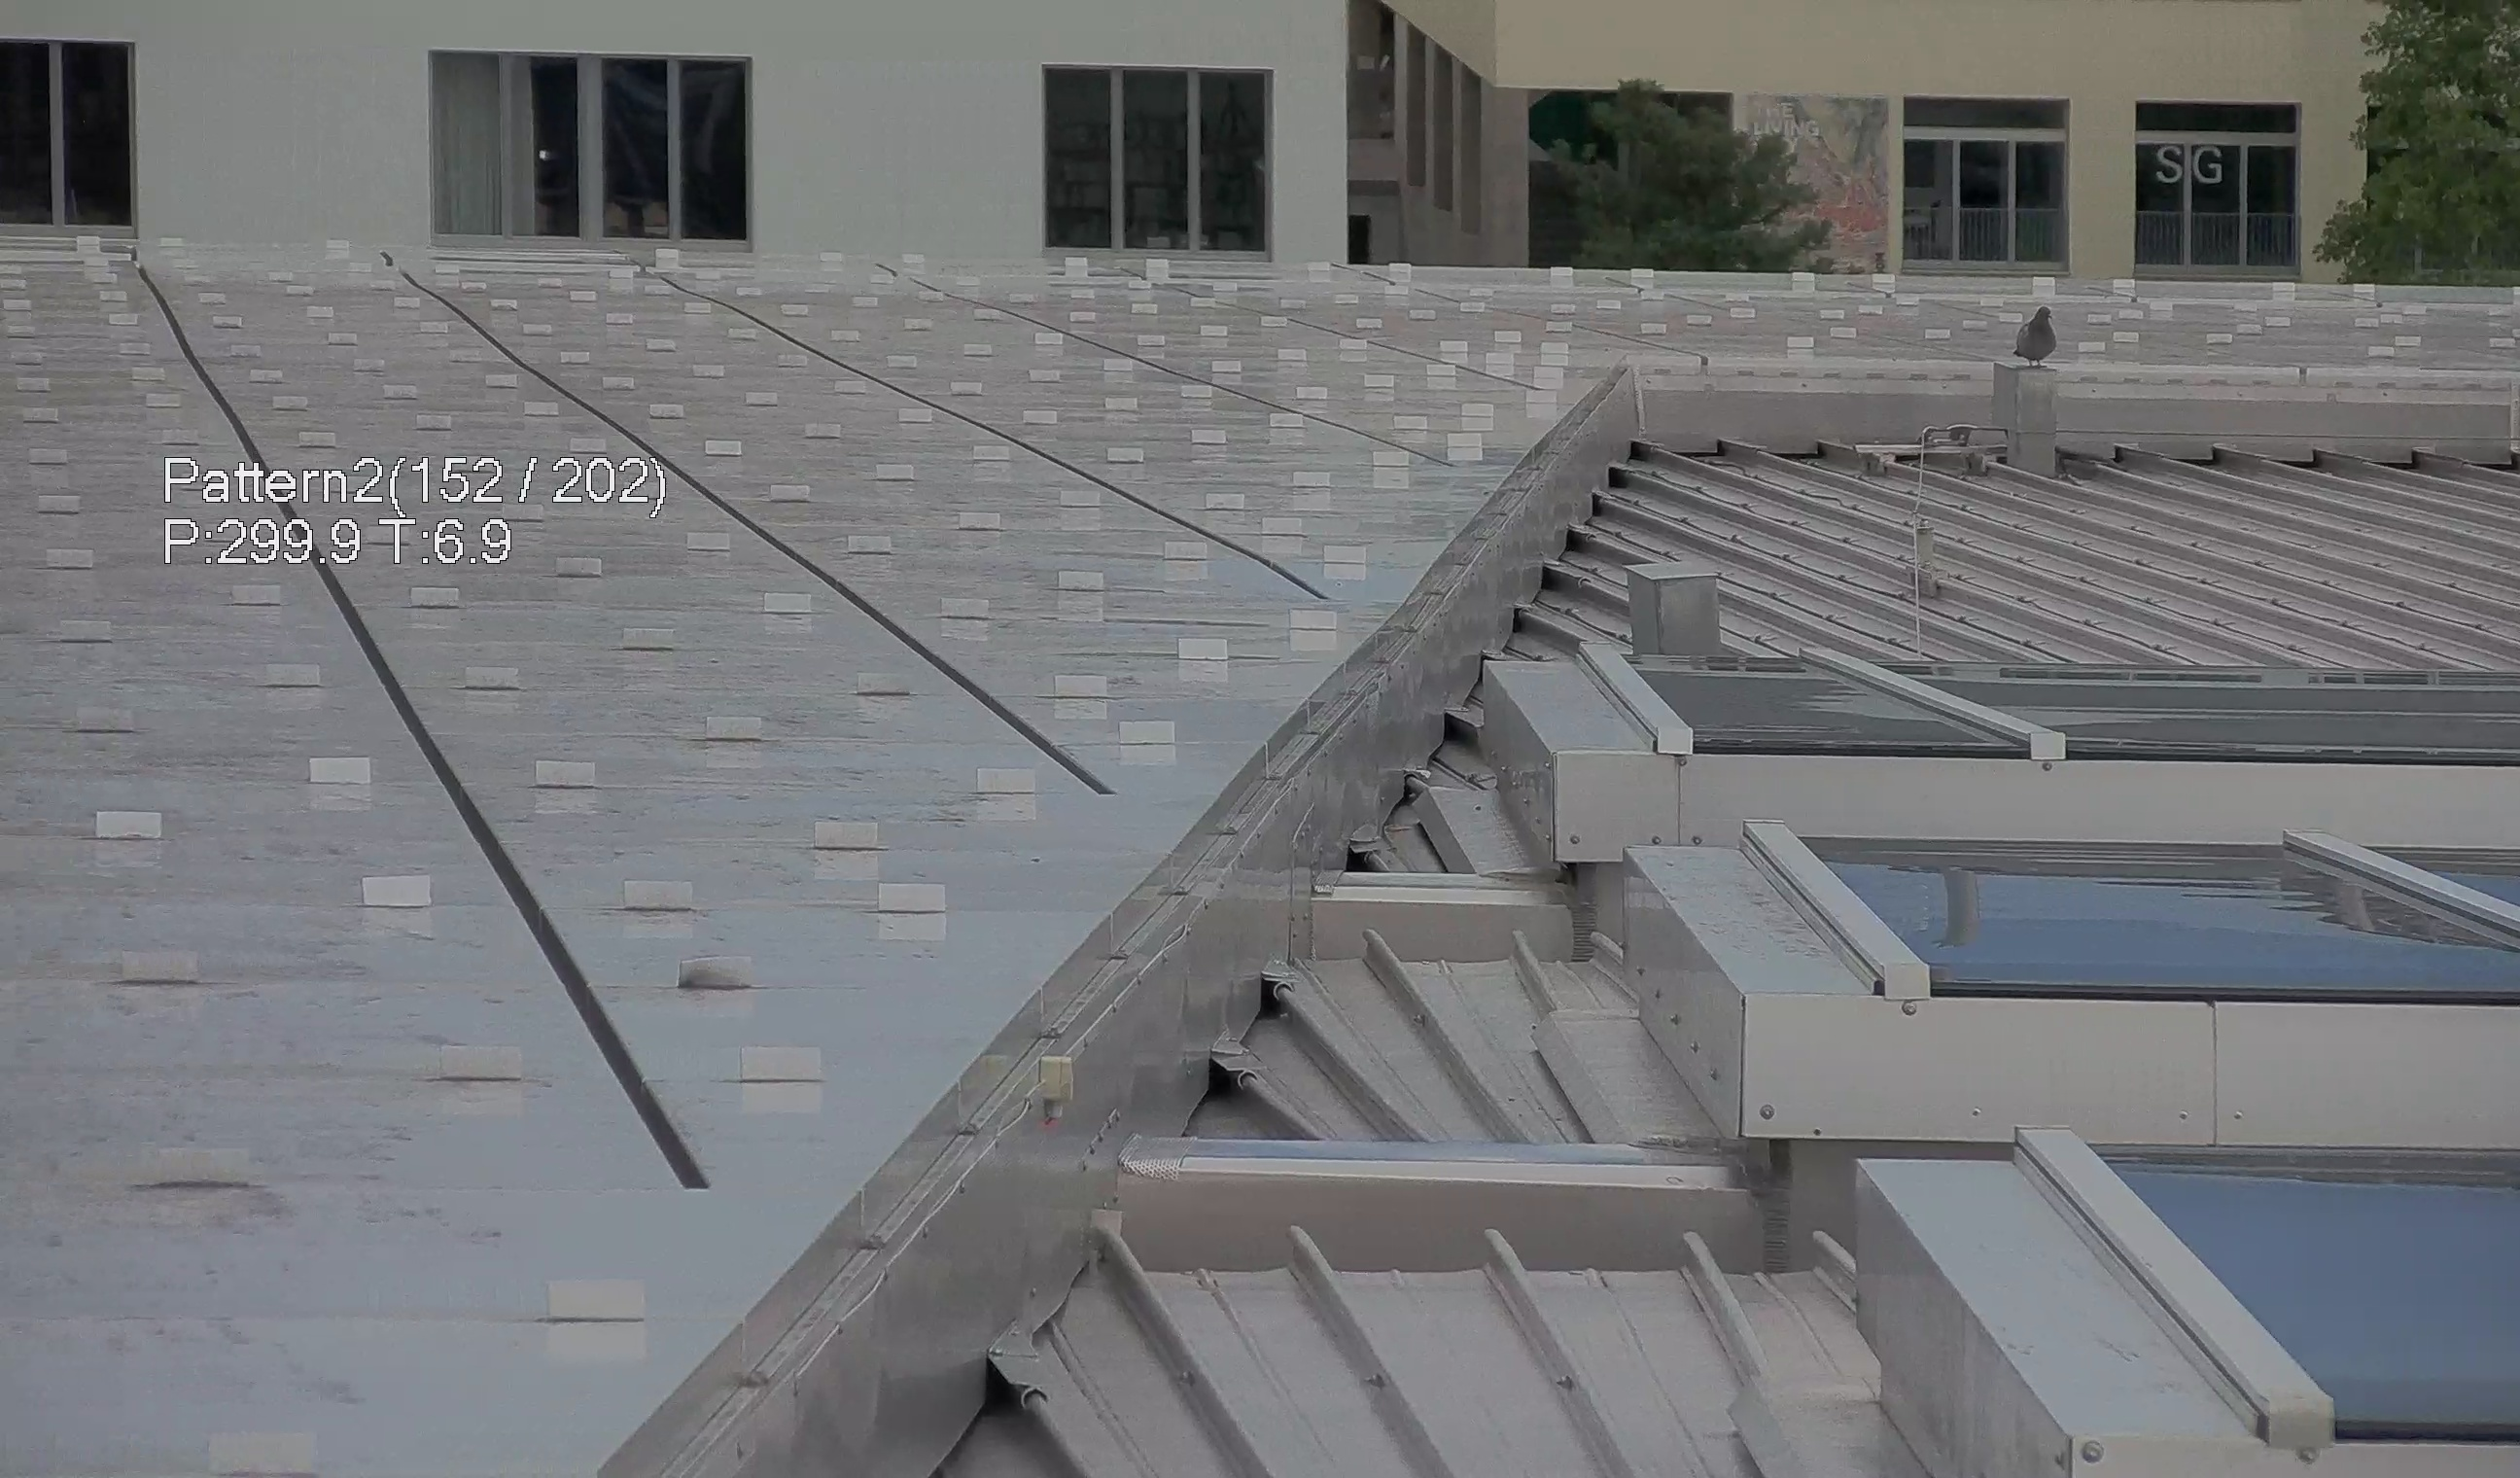Pigeon: (2017, 287, 2079, 366)
